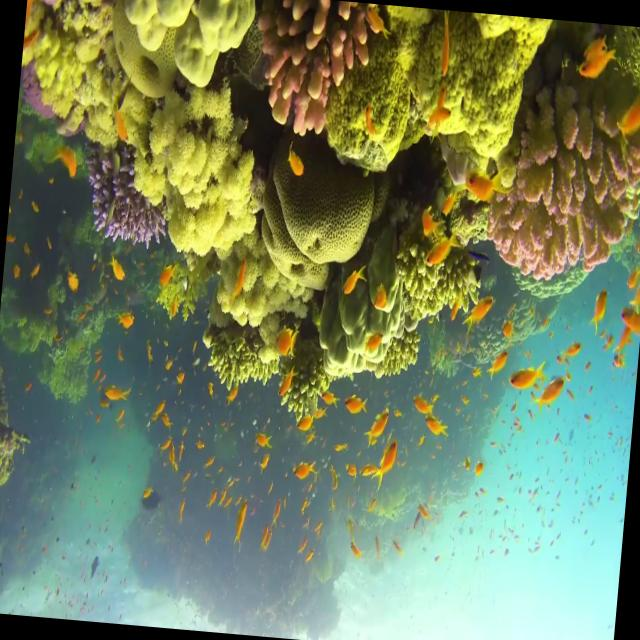fish: (362, 433, 402, 508), (266, 320, 304, 377), (332, 251, 370, 306), (572, 43, 616, 88), (459, 288, 499, 332), (616, 82, 640, 155), (363, 401, 392, 458), (282, 138, 314, 186), (51, 138, 85, 182), (587, 278, 611, 340), (509, 354, 545, 394), (538, 369, 568, 414), (228, 502, 255, 550), (100, 374, 136, 410), (103, 242, 127, 290), (340, 387, 372, 421), (291, 451, 321, 486), (422, 410, 453, 440), (113, 306, 138, 342), (410, 386, 436, 420), (159, 252, 180, 290), (486, 349, 510, 379), (618, 303, 640, 334), (629, 226, 640, 257)
